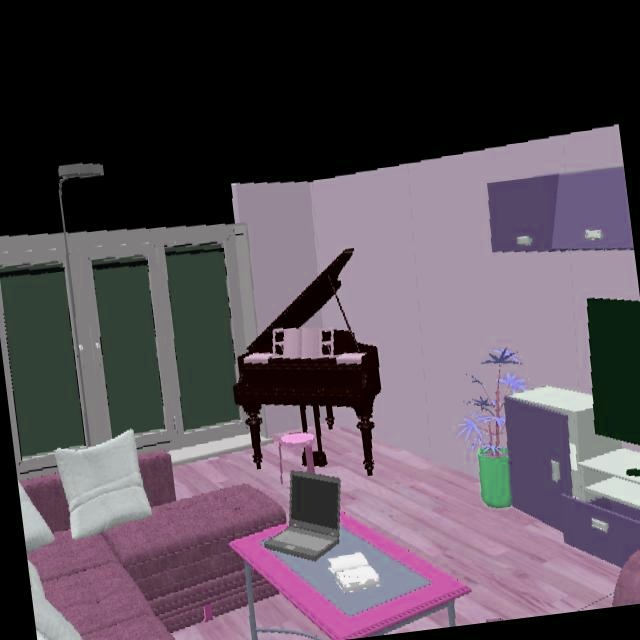book: (325, 553, 381, 592)
chair: (504, 389, 640, 569), (486, 166, 634, 253)
laptop: (265, 471, 343, 564)
pillow: (54, 430, 152, 541), (27, 559, 83, 640), (17, 481, 53, 555)
sofa: (26, 472, 286, 640)
table: (230, 515, 470, 640)
